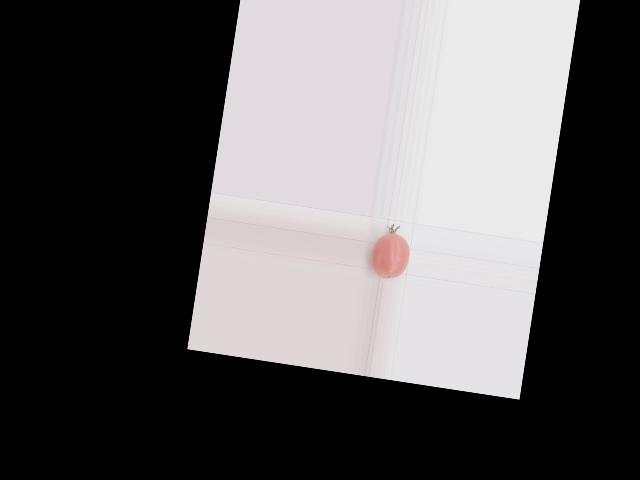tomato: (368, 230, 412, 281)
